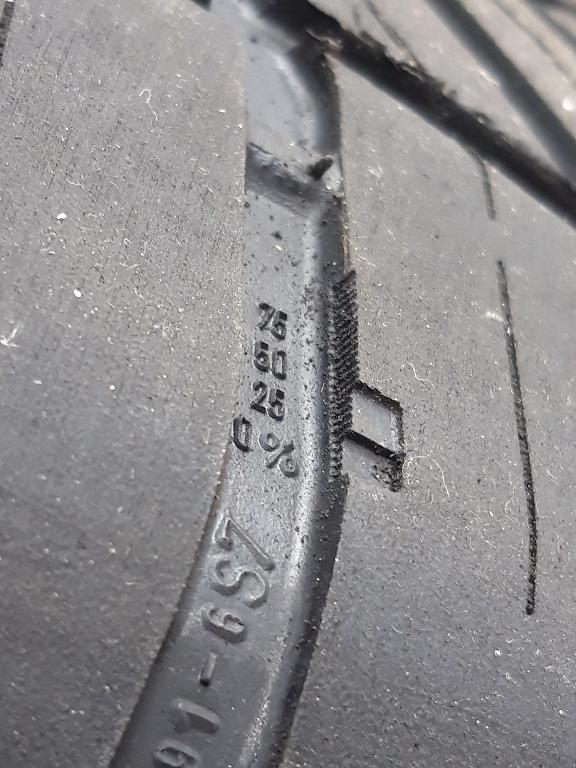temoin:25: (321, 374, 417, 501)
